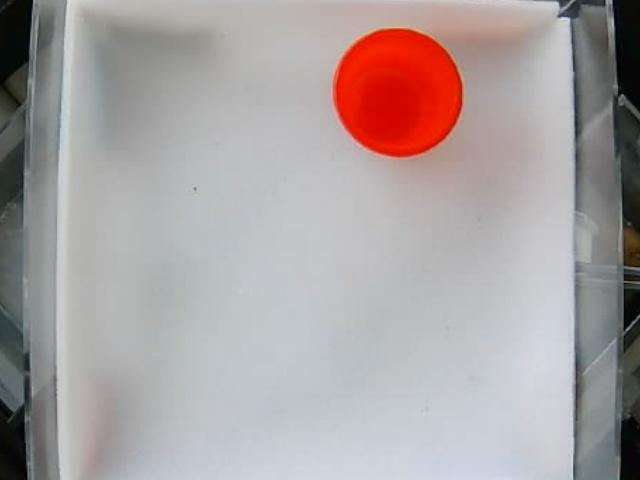Cup: (331, 27, 464, 163)
